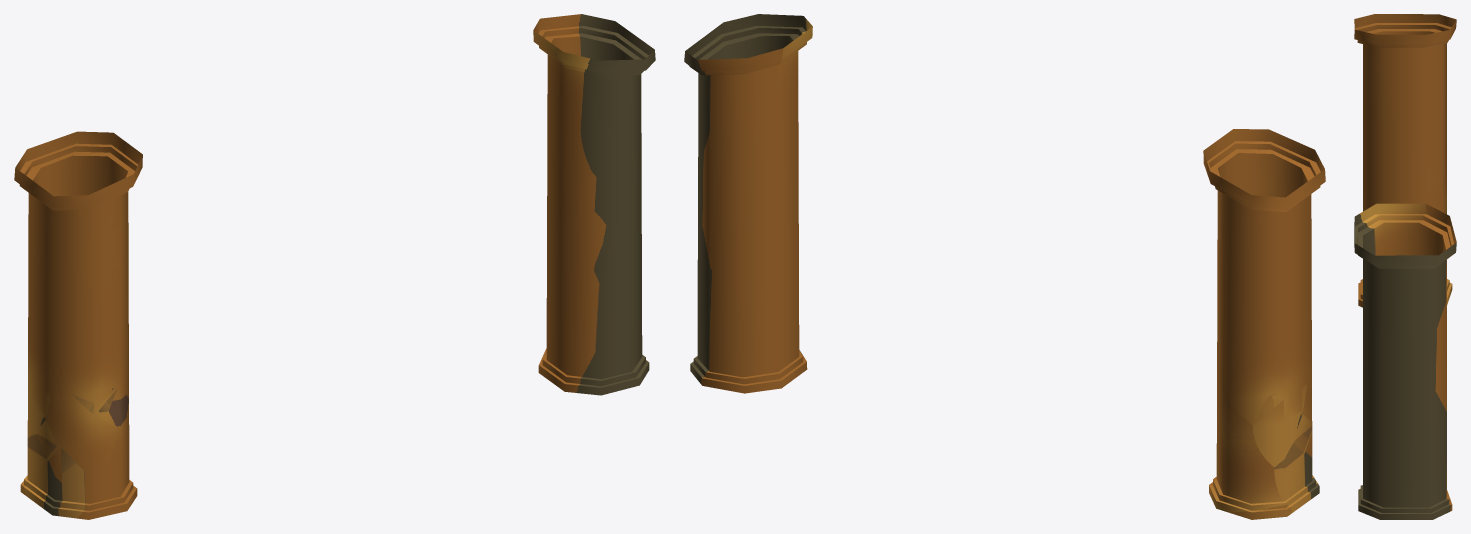
The model's file is desert temple pillar.fbx.
3 renders of one model, left to right at view 1: azimuth 30°, elevation 25°; view 2: azimuth 150°, elevation 25°; view 3: azimuth 270°, elevation 25°, orthographic. The views are drawn at different scales.
Parts seen in each view (by area): view 1: zand.001; view 2: zand.001; view 3: zand.001.
Part boxes in pixels (x1=…): zand.001: x1=14, y1=14, x2=655, y2=519; zand.001: x1=684, y1=14, x2=1325, y2=519; zand.001: x1=1354, y1=14, x2=1456, y2=519.
Bounding box in the file's own units: 20.1 × 10.88 × 3.59.
